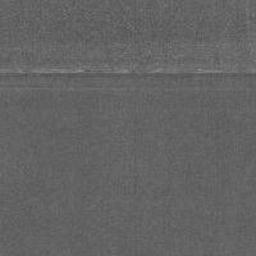Welding line: (0, 65, 256, 78)
